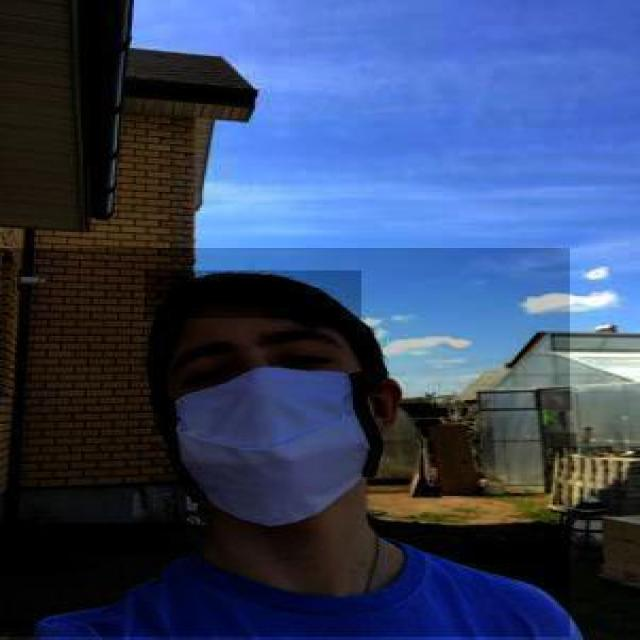face_mask: (159, 324, 383, 526)
head_nohelmet: (144, 270, 362, 318)
person: (0, 248, 572, 638)
